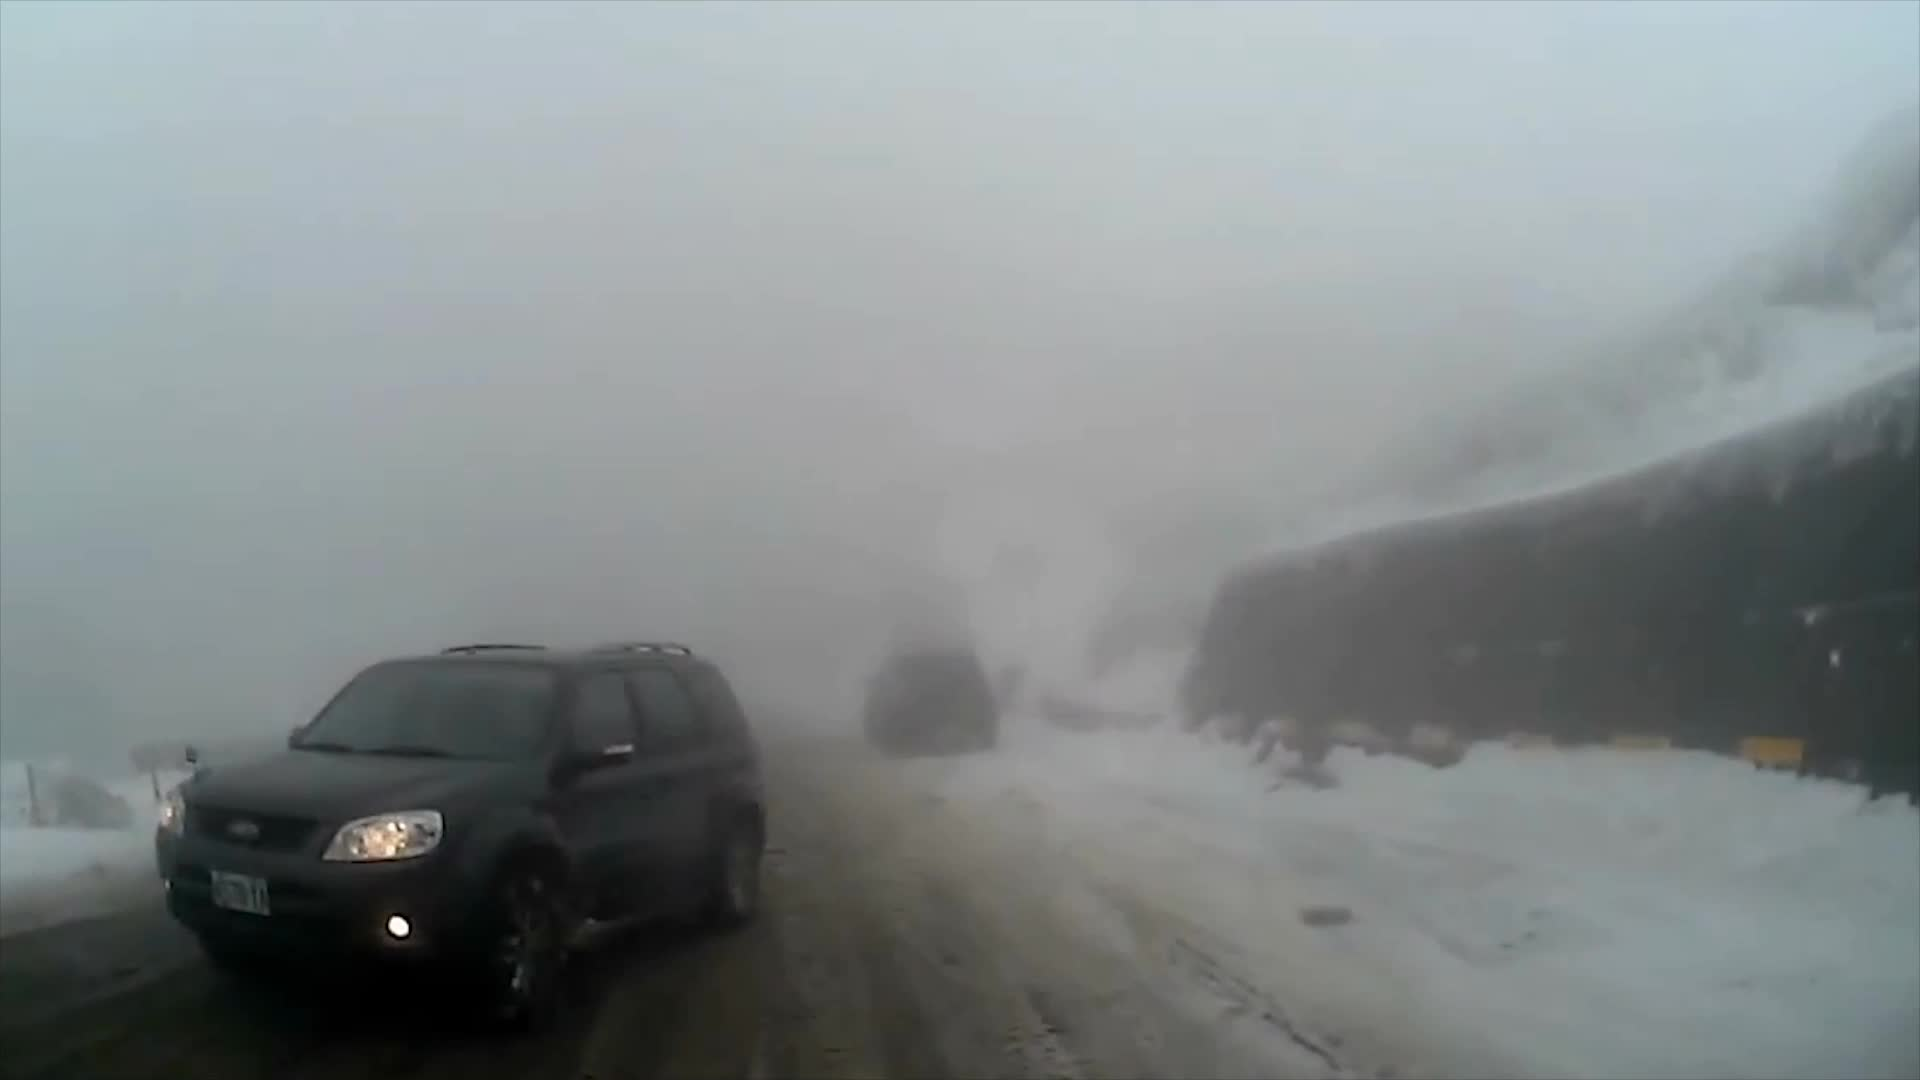vehicle: (153, 634, 771, 1025), (858, 640, 998, 760)
